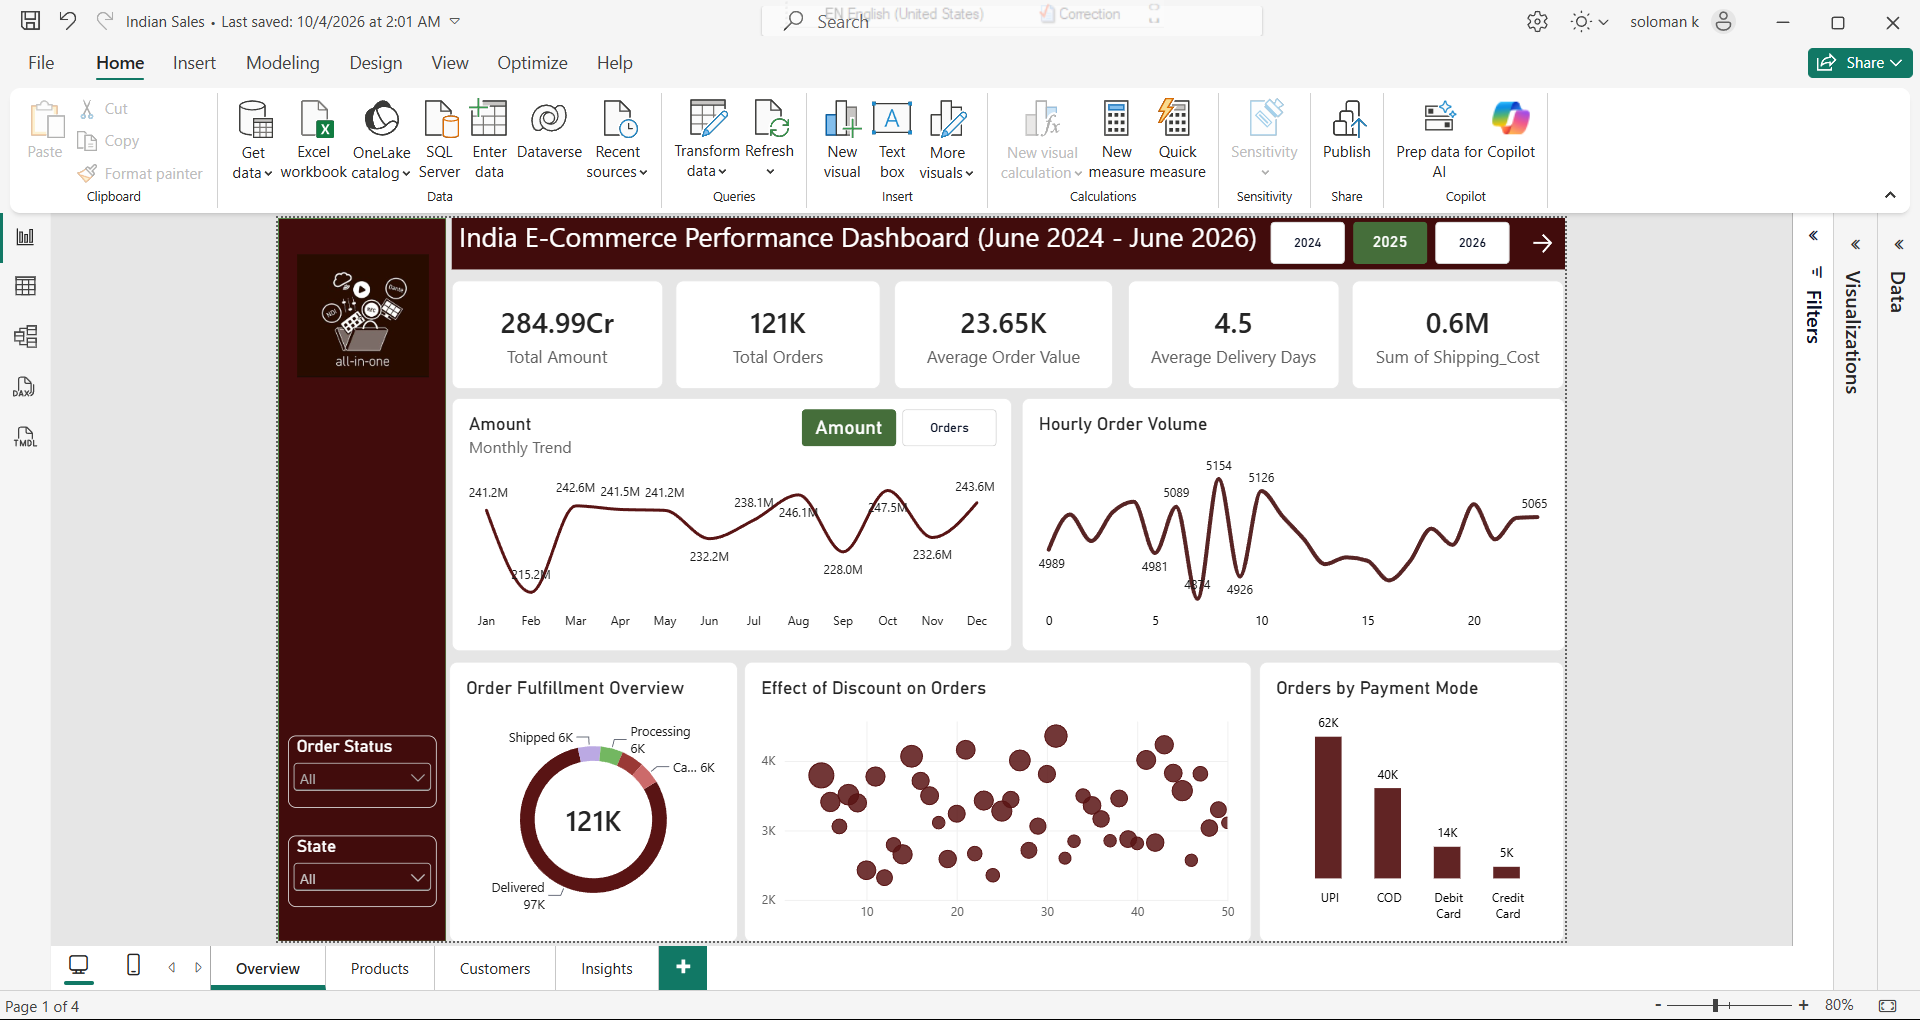

The page's visual inventory and layout, read from the dashboard file:
{"tool":"powerbi","page":{"name":"Overview","canvas":[1280,720],"ordinal":0},"visuals":[{"type":"textbox","box":[172.4,0,1107.9,51.4],"z":0},{"type":"shape","box":[0,0,167.5,720.2],"z":1000},{"type":"card","title":"Total Amount ","fields":{"Values":["sales.Total_Revenue"]},"box":[172.4,62.4,210.3,107.6],"z":2000},{"type":"card","title":"Total Amount ","fields":{"Values":["sales.Total Orders"]},"box":[396,61.9,204.2,107.6],"z":3000},{"type":"card","title":"Total Amount ","fields":{"Values":["sales.Average Order Value"]},"box":[613.9,62.4,217.7,107.6],"z":4000},{"type":"card","title":"Total Amount ","fields":{"Values":["sales.Average Delivery Days"]},"box":[846.2,62.4,210.3,107.6],"z":5000},{"type":"card","title":"Total Amount ","fields":{"Values":["Sum(sales.Shipping_Cost)"]},"box":[1068.8,62.4,211.6,107.6],"z":6000},{"type":"lineChart","fields":{"Category":["Calender.Month"],"Y":["sales.Total_Revenue"]},"box":[172.4,178.5,557.6,251.9],"z":7000},{"type":"advancedSlicerVisual","title":"Monthly Orders","fields":{"Values":["Metric Selector.Metric Selector"]},"box":[520.9,190.8,195.7,37.9],"z":8000},{"type":"advancedSlicerVisual","fields":{"Values":["Calender.Year"]},"box":[988,3.7,238.5,42.8],"z":9000},{"type":"donutChart","title":"Order Fulfillment Overview","fields":{"Category":["sales.Order_Status"],"Y":["sales.Total Orders"]},"box":[170,441.4,287.4,278.8],"z":10000},{"type":"scatterChart","title":"Effect of Discount on Orders","fields":{"Size":["sales.Total_Revenue"],"X":["products.Discount_Percent"],"Y":["Sum(sales.Quantity)"]},"box":[463.5,441.4,505,278.8],"z":11000},{"type":"columnChart","title":"Orders by Payment Mode","fields":{"Category":["sales.Payment_Mode"],"Y":["sales.Total Orders"]},"box":[977,441.4,303.3,278.8],"z":12000},{"type":"lineChart","title":"Hourly Order Volume","fields":{"Category":["sales.Hour"],"Y":["sales.Total Orders"]},"box":[739.8,178.5,540.5,251.9],"z":13000},{"type":"image","box":[17.1,35.5,134.5,122.3],"z":14000},{"type":"slicer","fields":{"Values":["sales.Order_Status"]},"box":[9.8,514.8,148,72.1],"z":15000},{"type":"slicer","fields":{"Values":["sales.State"]},"box":[9.8,615.1,148,70.9],"z":16000},{"type":"actionButton","box":[1235.1,4.9,45.2,40.4],"z":17000}]}

Visuals, with their boxes on the page's 1280x720 design canvas (x1, y1, x2, y2). These are canvas units, not pixel positions in the 1920x1020 screenshot, which may show the page scaled, cropped or inside an application window:
textbox: {"x1": 172, "y1": 0, "x2": 1280, "y2": 51}
shape: {"x1": 0, "y1": 0, "x2": 168, "y2": 720}
"Total Amount " card: {"x1": 172, "y1": 62, "x2": 383, "y2": 170}
"Total Amount " card: {"x1": 396, "y1": 62, "x2": 600, "y2": 170}
"Total Amount " card: {"x1": 614, "y1": 62, "x2": 832, "y2": 170}
"Total Amount " card: {"x1": 846, "y1": 62, "x2": 1056, "y2": 170}
"Total Amount " card: {"x1": 1069, "y1": 62, "x2": 1280, "y2": 170}
lineChart - Calender.Month x sales.Total_Revenue: {"x1": 172, "y1": 178, "x2": 730, "y2": 430}
"Monthly Orders" advancedSlicerVisual: {"x1": 521, "y1": 191, "x2": 717, "y2": 229}
advancedSlicerVisual - Calender.Year: {"x1": 988, "y1": 4, "x2": 1226, "y2": 46}
"Order Fulfillment Overview" donutChart: {"x1": 170, "y1": 441, "x2": 457, "y2": 720}
"Effect of Discount on Orders" scatterChart: {"x1": 464, "y1": 441, "x2": 968, "y2": 720}
"Orders by Payment Mode" columnChart: {"x1": 977, "y1": 441, "x2": 1280, "y2": 720}
"Hourly Order Volume" lineChart: {"x1": 740, "y1": 178, "x2": 1280, "y2": 430}
image: {"x1": 17, "y1": 36, "x2": 152, "y2": 158}
slicer - sales.Order_Status: {"x1": 10, "y1": 515, "x2": 158, "y2": 587}
slicer - sales.State: {"x1": 10, "y1": 615, "x2": 158, "y2": 686}
actionButton: {"x1": 1235, "y1": 5, "x2": 1280, "y2": 45}
